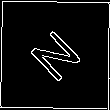N_SE: (23, 22, 87, 88)
